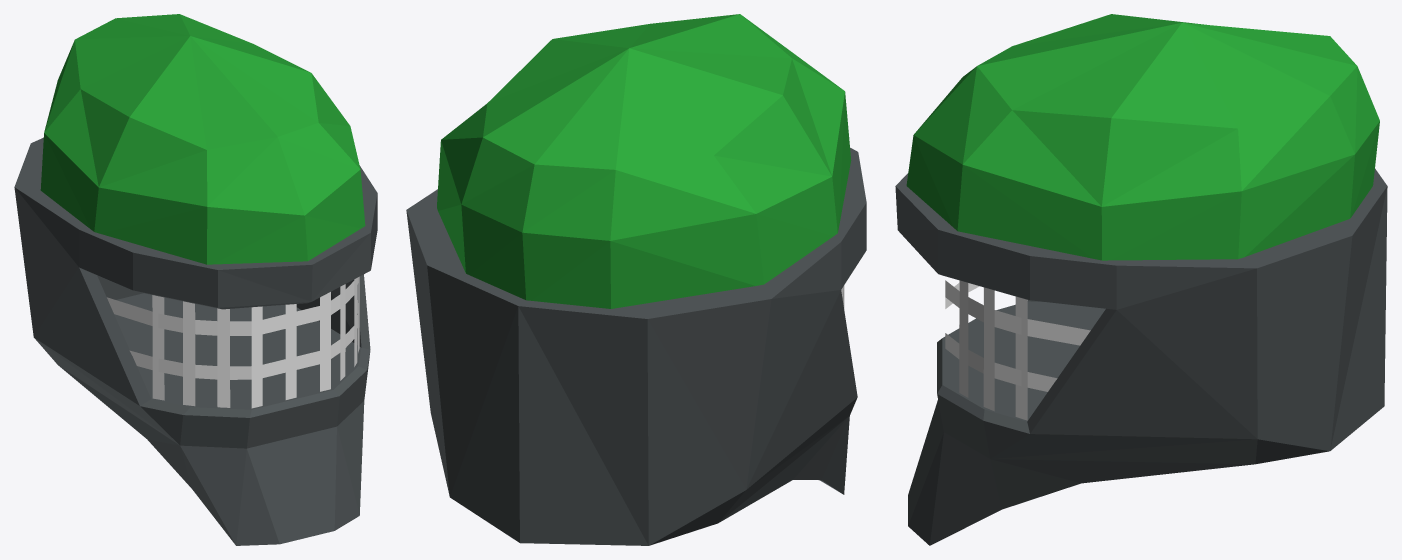
The model's file is Ice_hockey_helmet_green.fbx.
The picture shows the model from 3 angles, left to right: view 1: azimuth 30°, elevation 25°; view 2: azimuth 150°, elevation 25°; view 3: azimuth 270°, elevation 25°; orthographic projection. The views are drawn at different scales.
Parts seen in each view (by area): view 1: Ice_hockey_helmet_green; view 2: Ice_hockey_helmet_green; view 3: Ice_hockey_helmet_green.
Part boxes in pixels (x1,y1,x2,y2): Ice_hockey_helmet_green: (14,14,377,545); Ice_hockey_helmet_green: (406,14,866,545); Ice_hockey_helmet_green: (895,14,1387,545).
Size of the model in its own units: 25.86 by 35.7 by 32.62.
